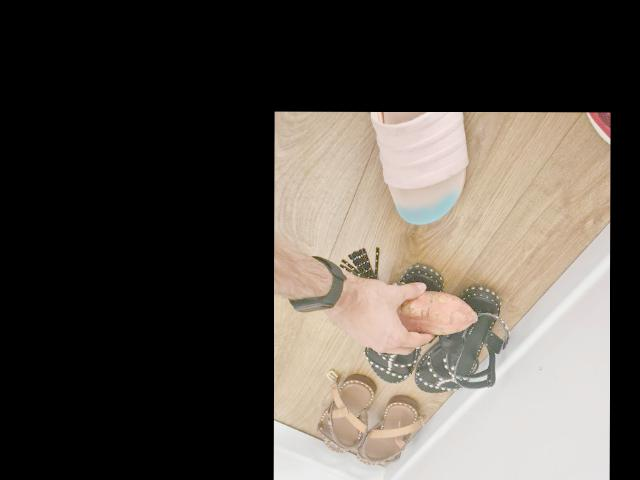sweet_potato: (398, 290, 478, 332)
